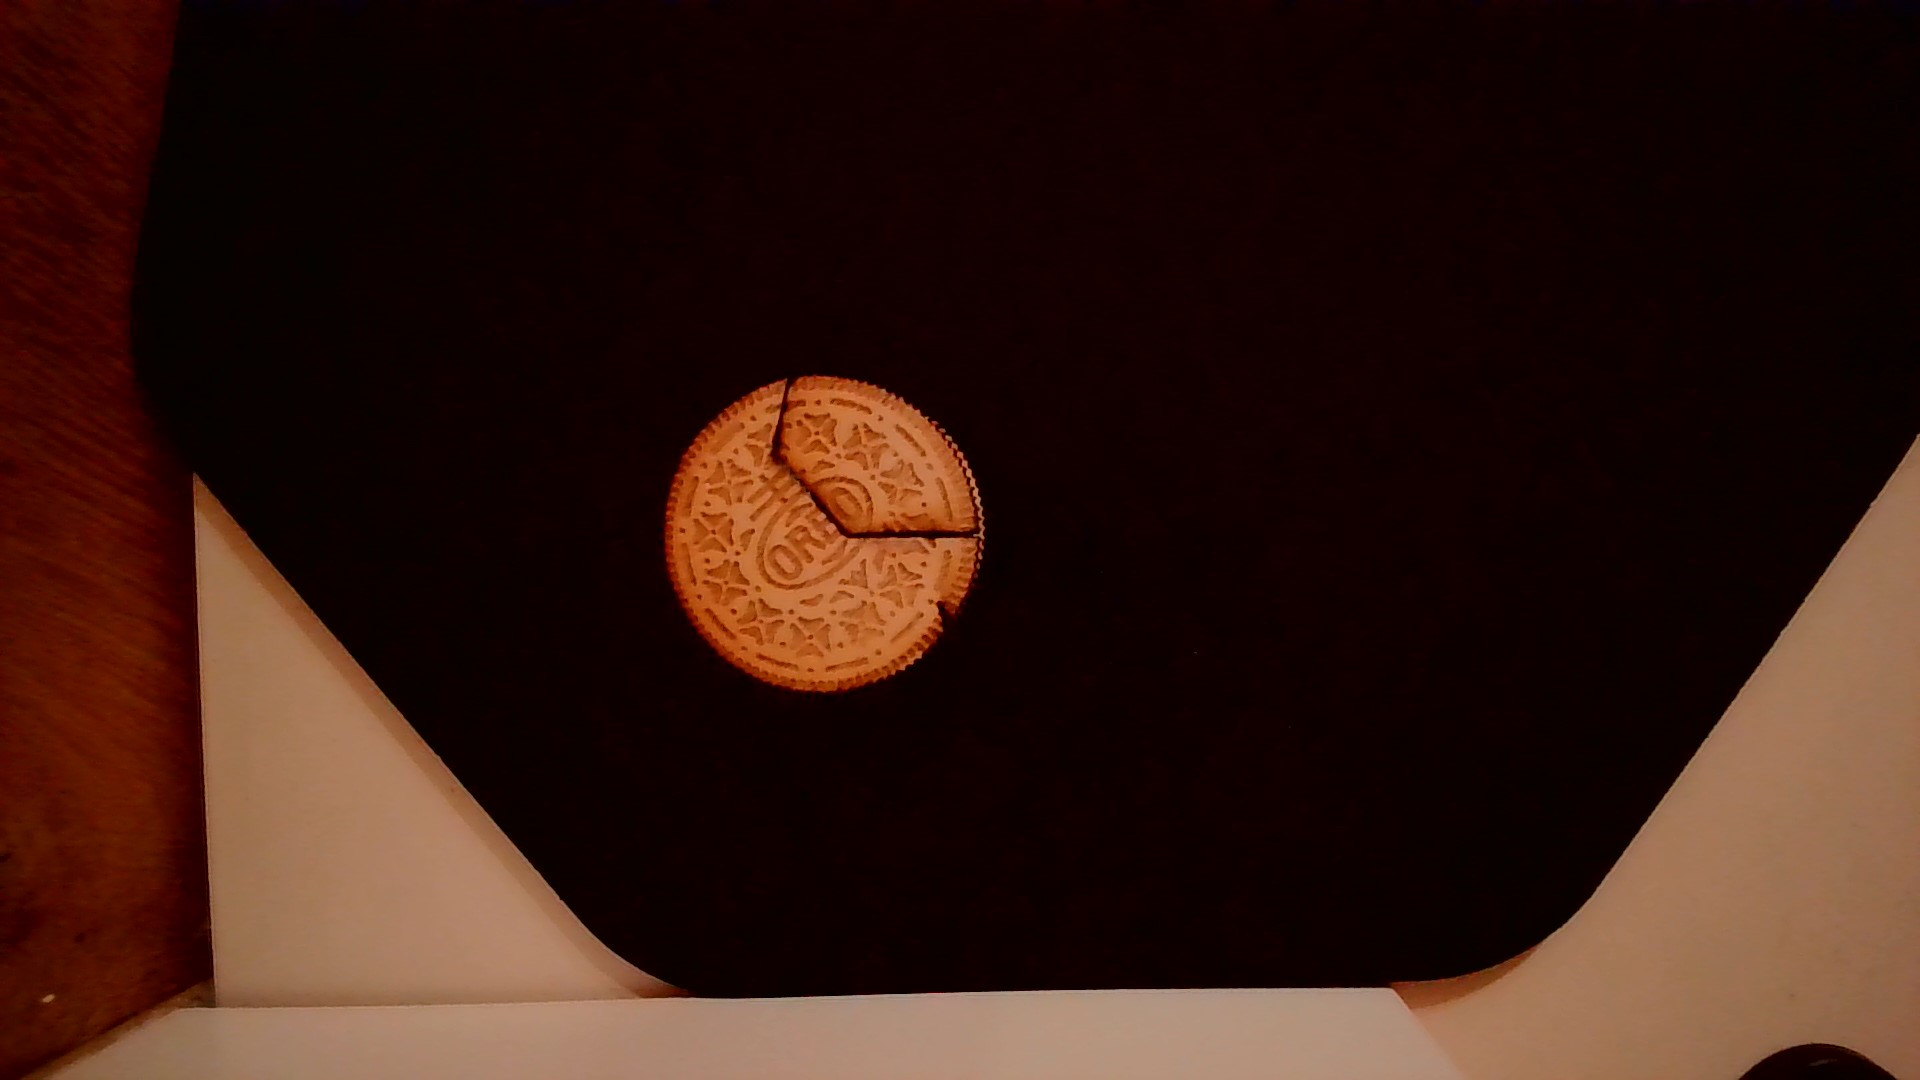Fissure: (753, 375, 989, 556), (931, 599, 956, 630)
Oréo: (659, 368, 993, 702)
